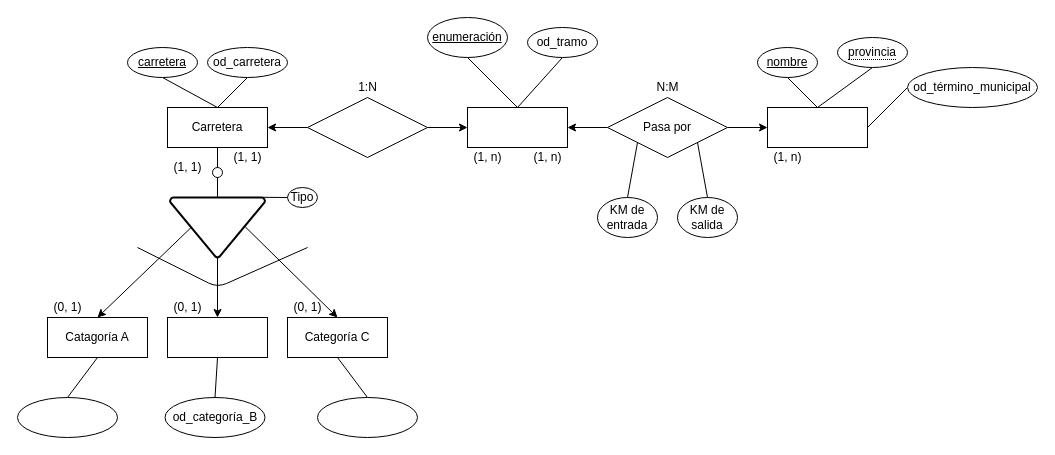
This 1055x455 diagram has some shape labels left out. Each missing label, with the centre of its shape:
"Categoría B" belongs at [217,337].
"ES_UN" belongs at [217,227].
"od_categoría_A" belongs at [67,417].
"od_categoría_C" belongs at [367,417].
"Se divide" belongs at [367,127].
"Tramo" belongs at [517,127].
"Término municipal" belongs at [817,127].
